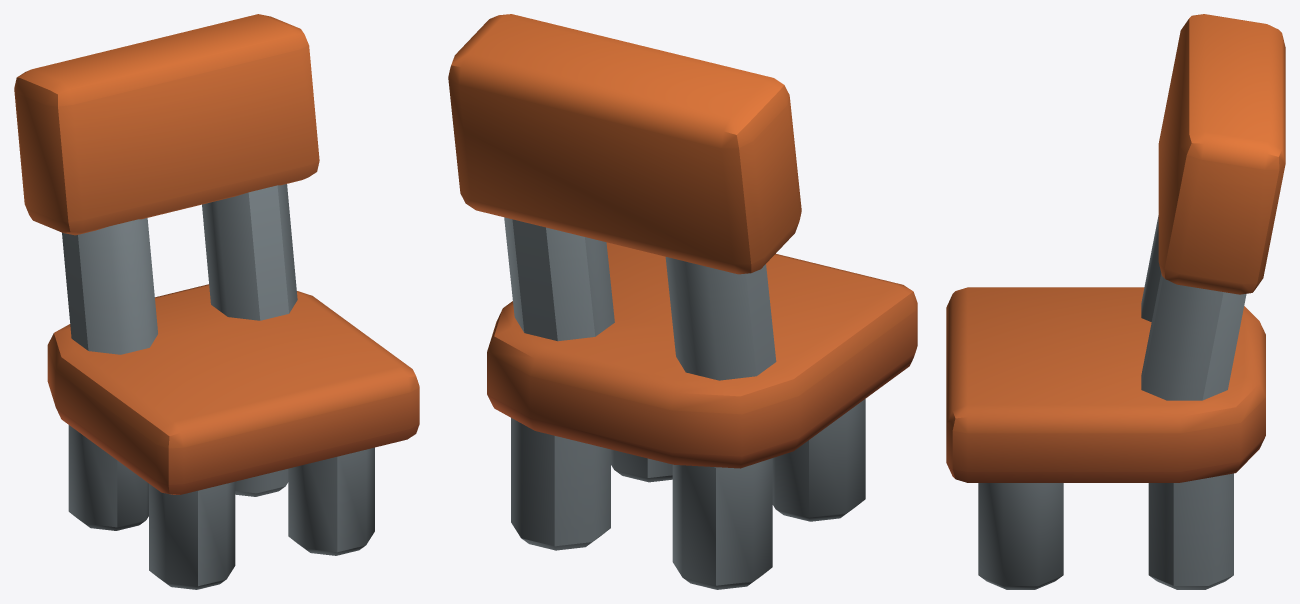
File: chair_A.obj
3 views of the same model, side by side, from view 1: azimuth 30°, elevation 25°; view 2: azimuth 150°, elevation 25°; view 3: azimuth 270°, elevation 25° (orthographic). The views are drawn at different scales.
Parts seen in each view (by area): view 1: chair_A_Cylinder.748; view 2: chair_A_Cylinder.748; view 3: chair_A_Cylinder.748.
Boxes of the visible parts, x1,y1,x2,y2 form: chair_A_Cylinder.748: (14,14,419,589); chair_A_Cylinder.748: (448,14,917,589); chair_A_Cylinder.748: (946,14,1285,589).
Bounding box in the file's own units: 0.75 × 1.21 × 0.7962.
1 material, 1 textured.
